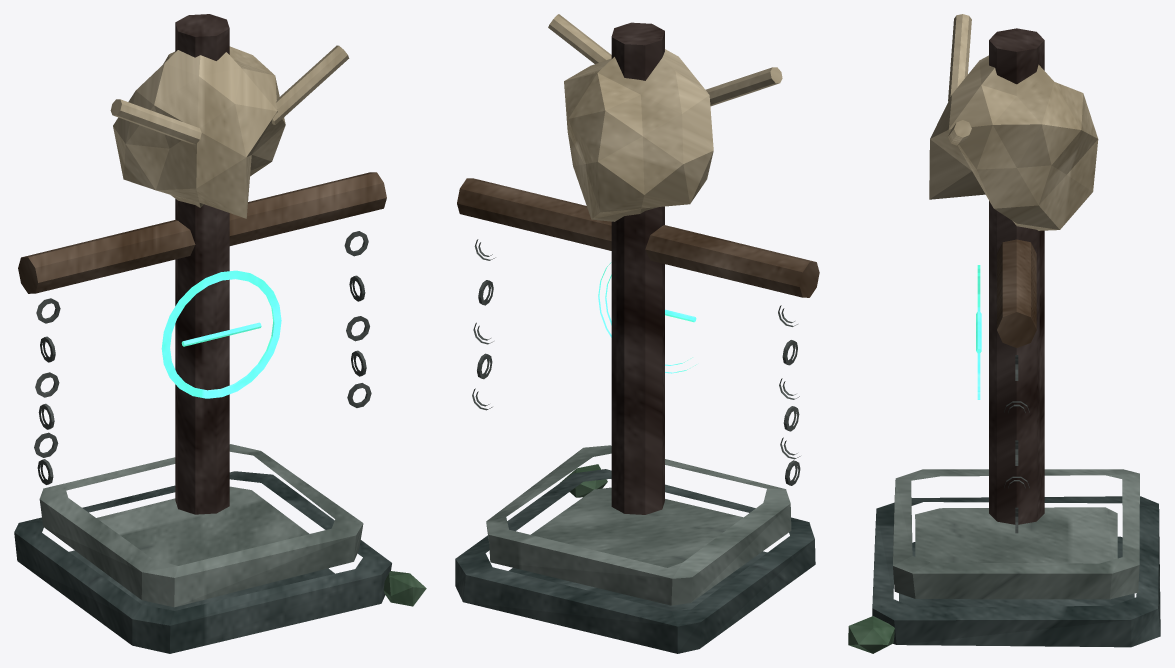
Rendered from 0502_effigy_02.glb.
3 views of the same model, side by side, from view 1: azimuth 30°, elevation 25°; view 2: azimuth 150°, elevation 25°; view 3: azimuth 270°, elevation 25° (orthographic).
Visible parts, largest first — view 1: stone, bone, stone_dark, wood_dark, wood, glow, iron, moss; view 2: stone, bone, stone_dark, wood_dark, wood, iron, moss; view 3: stone, bone, stone_dark, wood_dark, wood, moss, glow, iron.
Boxes of the visible parts, x1,y1,x2,y2 form: stone: [39, 444, 363, 607]; bone: [110, 45, 349, 218]; stone_dark: [14, 471, 391, 653]; wood_dark: [175, 14, 229, 514]; wood: [18, 172, 386, 293]; glow: [161, 270, 281, 398]; iron: [34, 231, 371, 484]; moss: [383, 571, 426, 606]; stone: [486, 445, 791, 605]; bone: [548, 14, 782, 221]; stone_dark: [455, 469, 815, 653]; wood_dark: [611, 22, 664, 514]; wood: [457, 178, 819, 297]; iron: [472, 239, 800, 485]; moss: [560, 464, 607, 497]; stone: [893, 469, 1139, 599]; bone: [929, 14, 1098, 230]; stone_dark: [872, 496, 1160, 647]; wood_dark: [989, 28, 1044, 524]; wood: [997, 239, 1036, 347]; moss: [848, 616, 894, 653]; glow: [976, 265, 981, 399]; iron: [1004, 355, 1029, 533].
Bounding box in the file's own units: 2 × 3.03 × 1.57.
8 materials, 8 textured.
